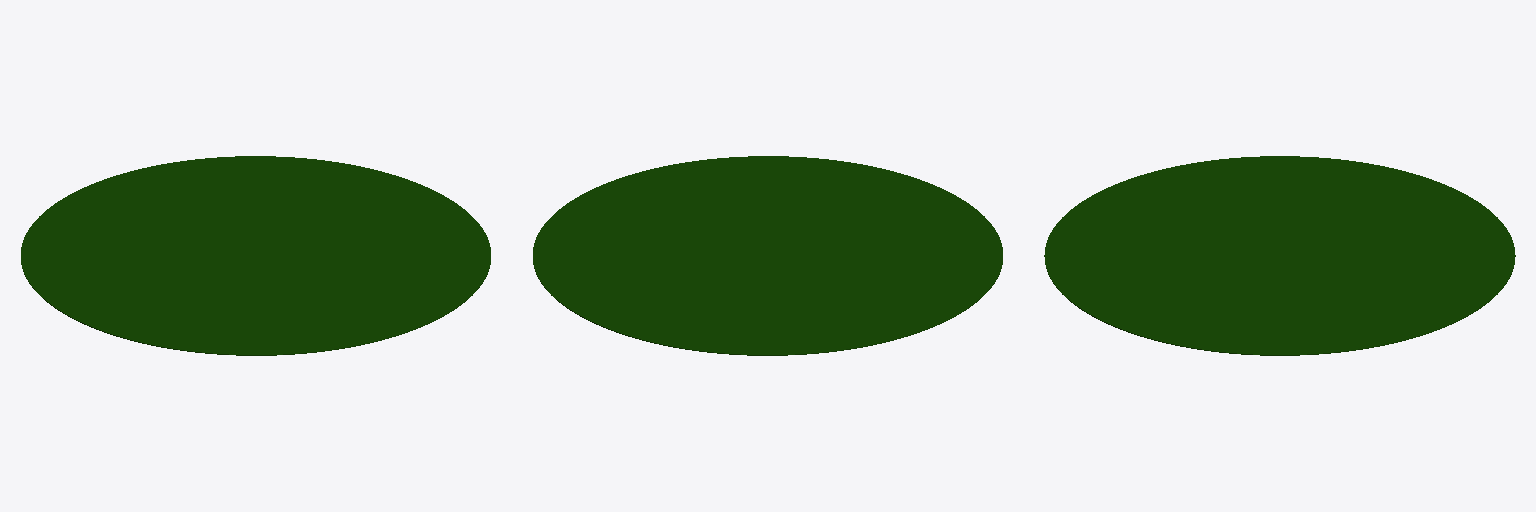
The model's file is YesilDaire.obj.
3 views of the same model, side by side, from view 1: azimuth 30°, elevation 25°; view 2: azimuth 150°, elevation 25°; view 3: azimuth 270°, elevation 25° (orthographic).
Visible parts, largest first — view 1: yesildaire; view 2: yesildaire; view 3: yesildaire.
Part boxes in pixels (x1,y1,x2,y2): yesildaire: (21,156,490,355); yesildaire: (533,156,1002,355); yesildaire: (1044,156,1515,355).
Size of the model in its own units: 1.2 by 0.002 by 1.2.